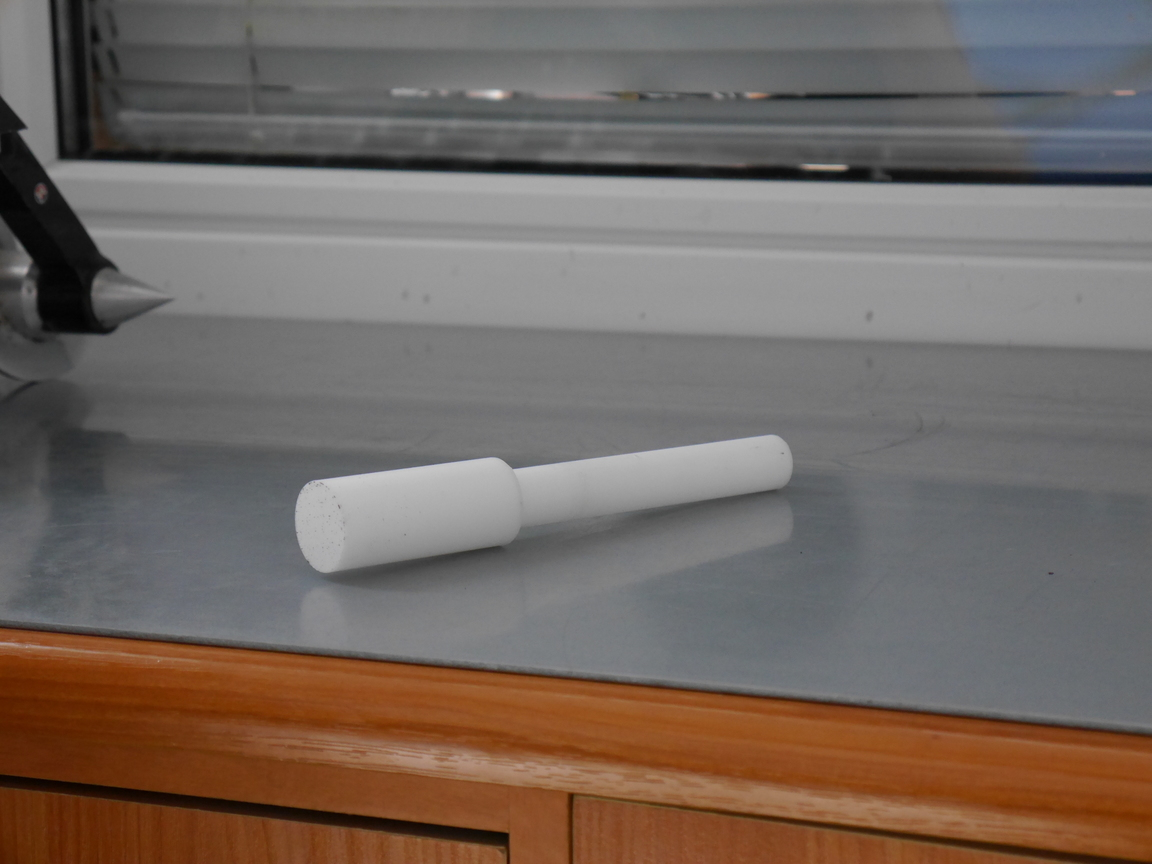cargo_g: (293, 433, 793, 576)
